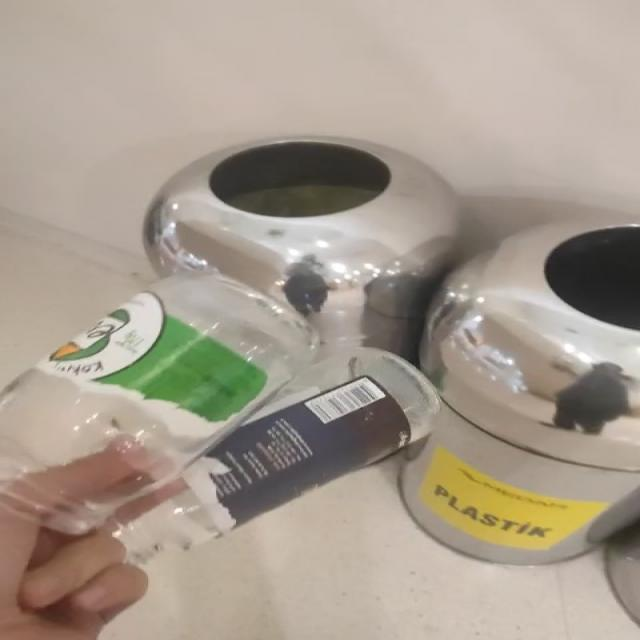glass: (1, 271, 439, 564), (1, 272, 433, 561)
